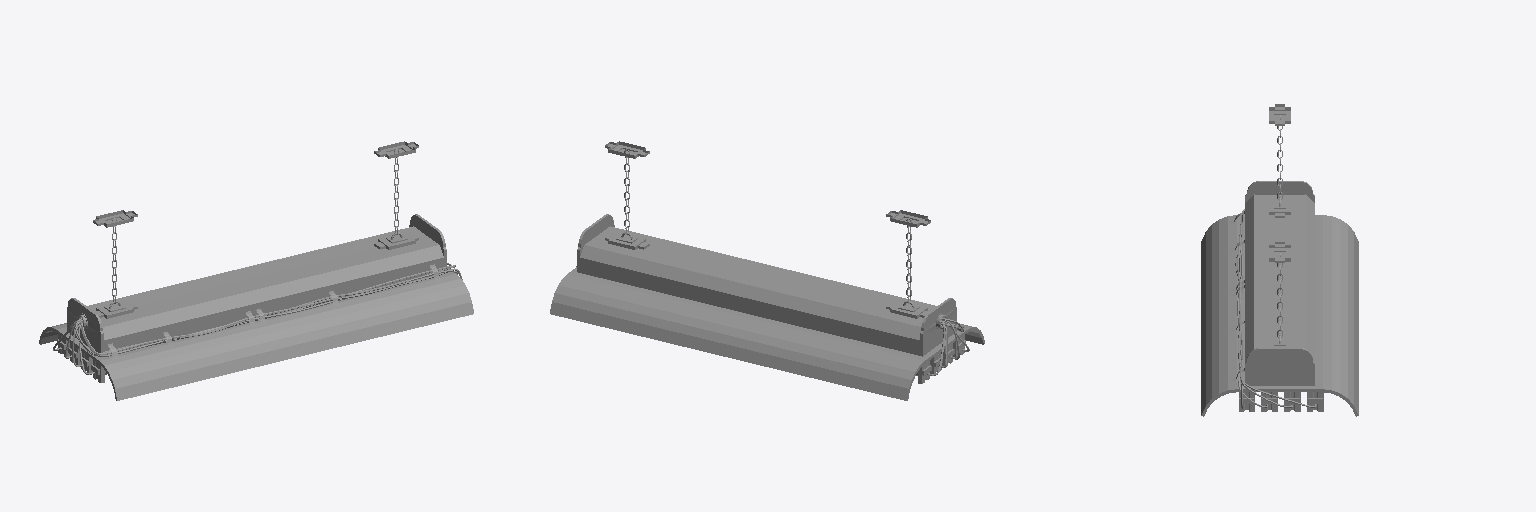
File: HangingLight_triangles_struct.obj
3 views of the same model, side by side, from view 1: azimuth 30°, elevation 25°; view 2: azimuth 150°, elevation 25°; view 3: azimuth 270°, elevation 25° (orthographic).
Parts seen in each view (by area): view 1: Plane.196_Plane.283; view 2: Plane.196_Plane.283; view 3: Plane.196_Plane.283.
Part boxes in pixels (x1,y1,x2,y2): Plane.196_Plane.283: (39, 141, 473, 400); Plane.196_Plane.283: (550, 141, 984, 400); Plane.196_Plane.283: (1201, 104, 1358, 416).
Bounding box in the file's own units: 0.1183 × 0.0441 × 0.0431.